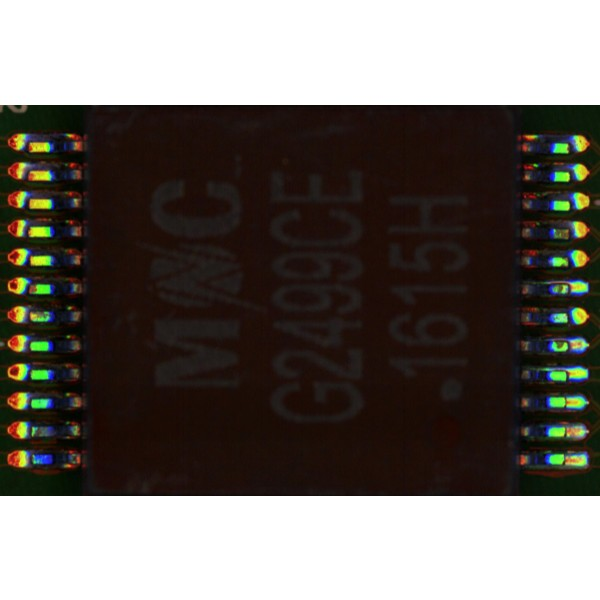Bad_podu: (555, 456, 576, 464), (560, 428, 575, 437), (560, 342, 578, 349), (558, 400, 575, 407), (561, 371, 578, 378)
Bad_qiaojiao: (538, 279, 571, 285), (534, 367, 566, 372)
